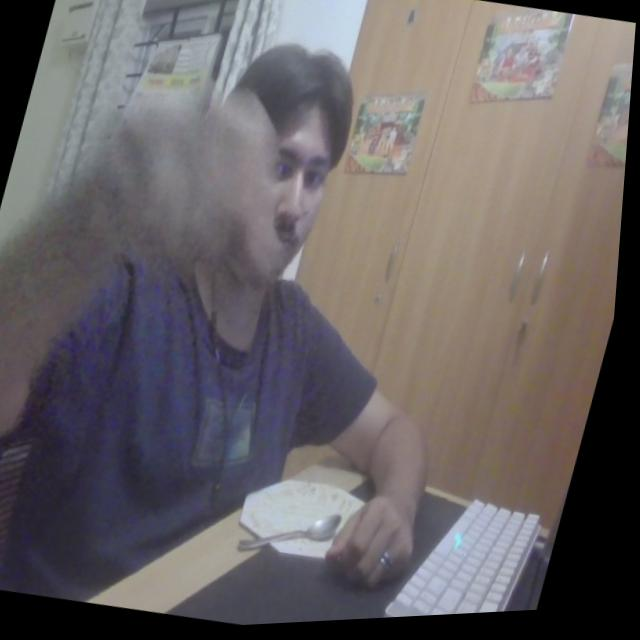yes: (52, 58, 340, 323)
